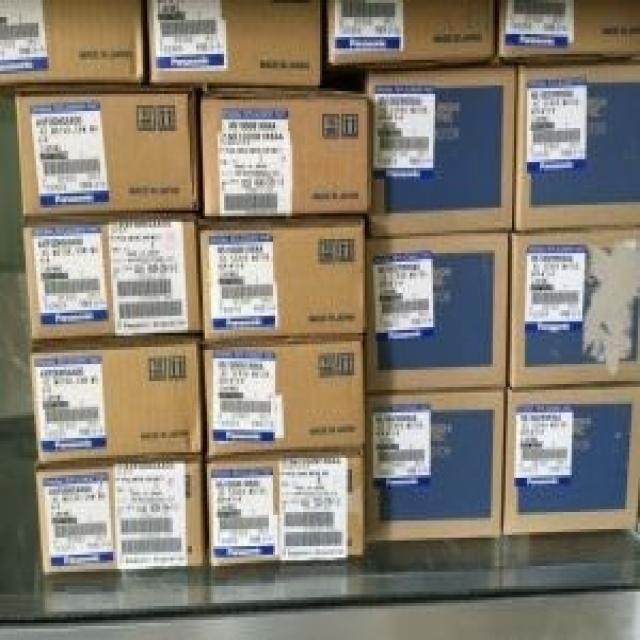box: (367, 65, 514, 239), (30, 330, 205, 469), (15, 88, 198, 219), (365, 233, 510, 395), (21, 219, 203, 344), (198, 88, 369, 219), (508, 225, 640, 393), (514, 60, 640, 236), (365, 393, 506, 543), (36, 455, 209, 577), (501, 384, 638, 538), (205, 333, 367, 455), (201, 219, 367, 338), (203, 447, 365, 566), (149, 0, 322, 91), (326, 0, 499, 63), (499, 0, 638, 60)
